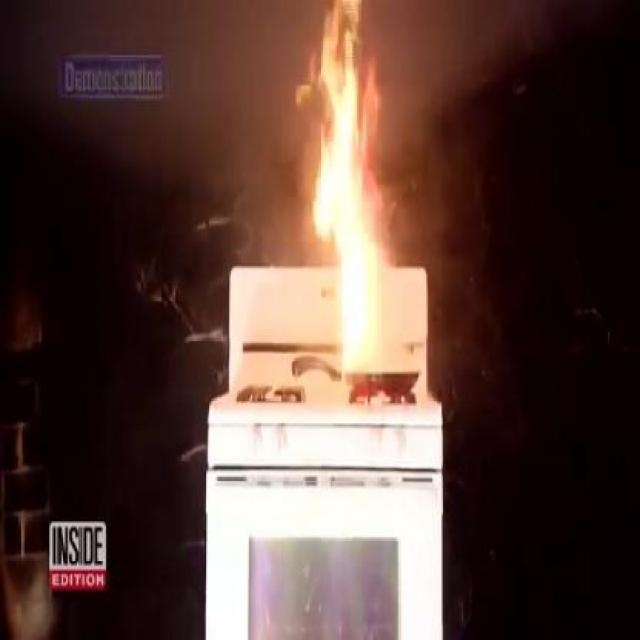fire: (265, 1, 451, 431)
